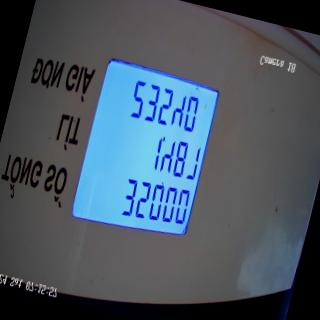screen: (64, 54, 225, 253)
